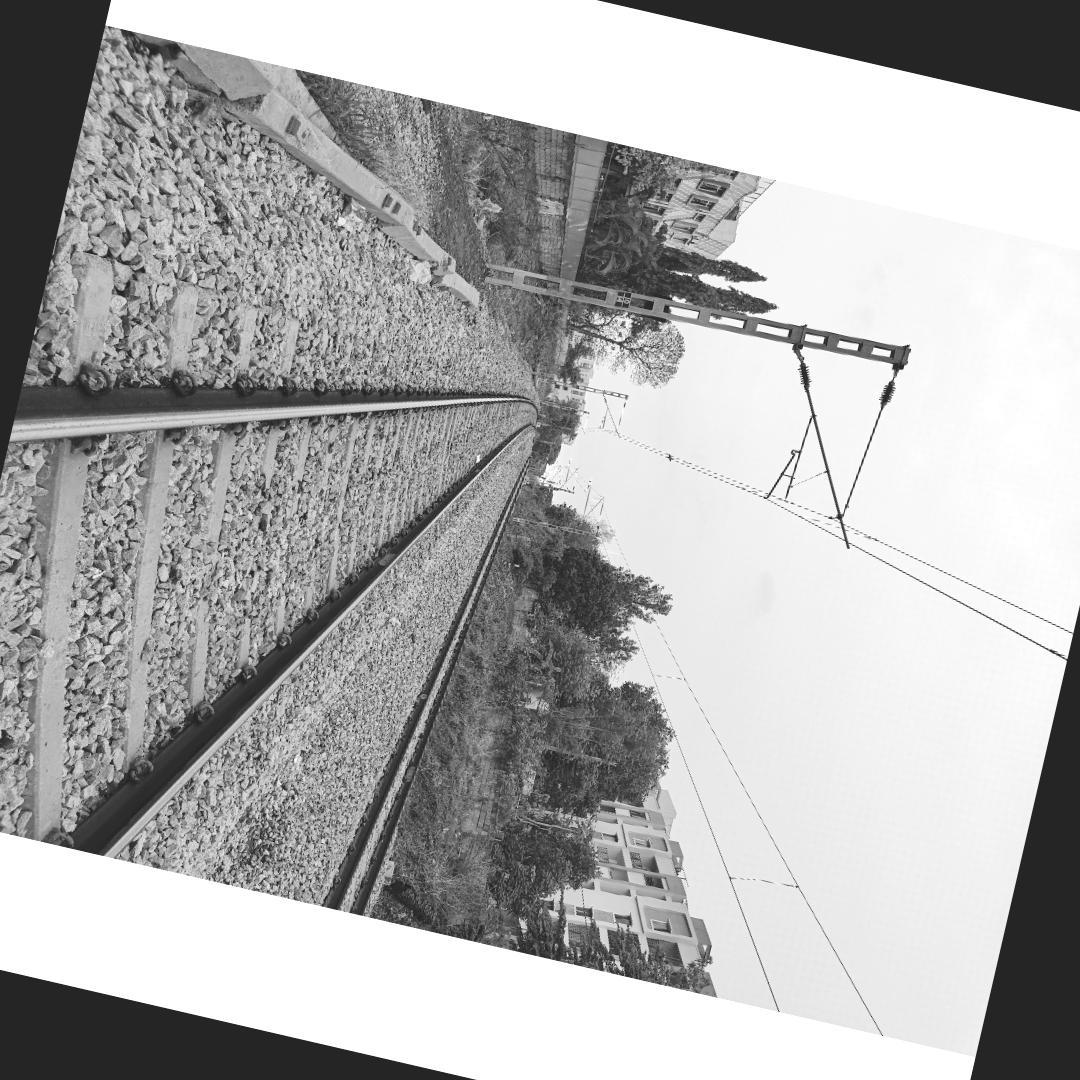track: (0, 379, 540, 858)
